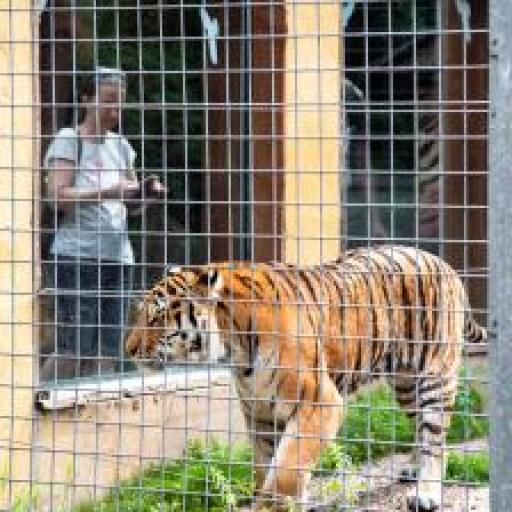Tiger: (121, 240, 485, 512)
